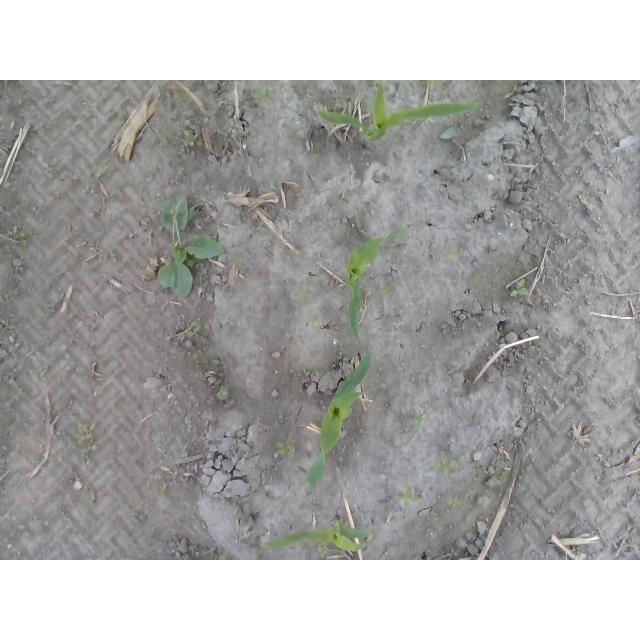Maize: (318, 81, 483, 144), (308, 351, 371, 491), (348, 230, 412, 339), (256, 515, 373, 553)
Weeds: (156, 193, 228, 300), (404, 412, 428, 441), (78, 422, 97, 456), (393, 488, 423, 508), (12, 226, 34, 251), (148, 484, 172, 506), (433, 457, 459, 476), (276, 441, 297, 460), (507, 279, 529, 297), (183, 130, 201, 149), (84, 166, 109, 179), (292, 281, 308, 300), (41, 162, 56, 181), (251, 88, 269, 102), (444, 247, 460, 261), (579, 191, 593, 206), (460, 233, 472, 247), (188, 323, 200, 337), (414, 80, 442, 86), (310, 317, 323, 329), (219, 383, 230, 397), (449, 499, 464, 508), (382, 283, 393, 294), (110, 251, 119, 264), (339, 85, 346, 99), (162, 137, 171, 147), (558, 372, 567, 381), (45, 456, 54, 465), (236, 258, 244, 267), (218, 556, 227, 561)
